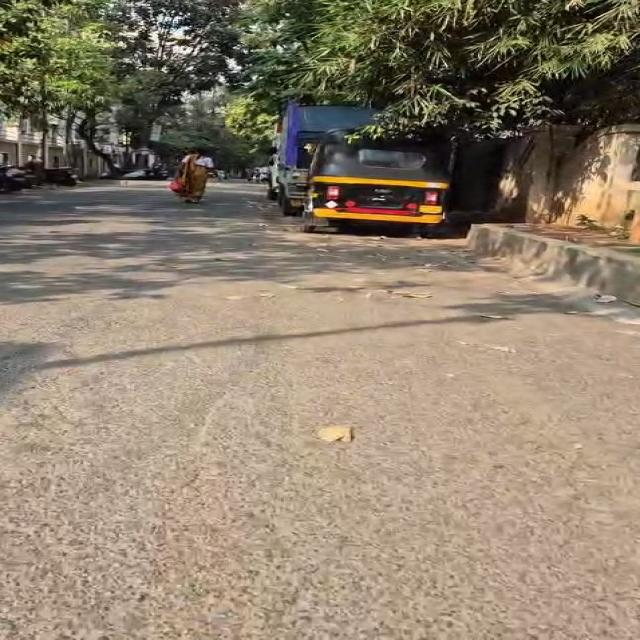obstacle: (78, 116, 121, 175)
vehical: (300, 132, 449, 234)
